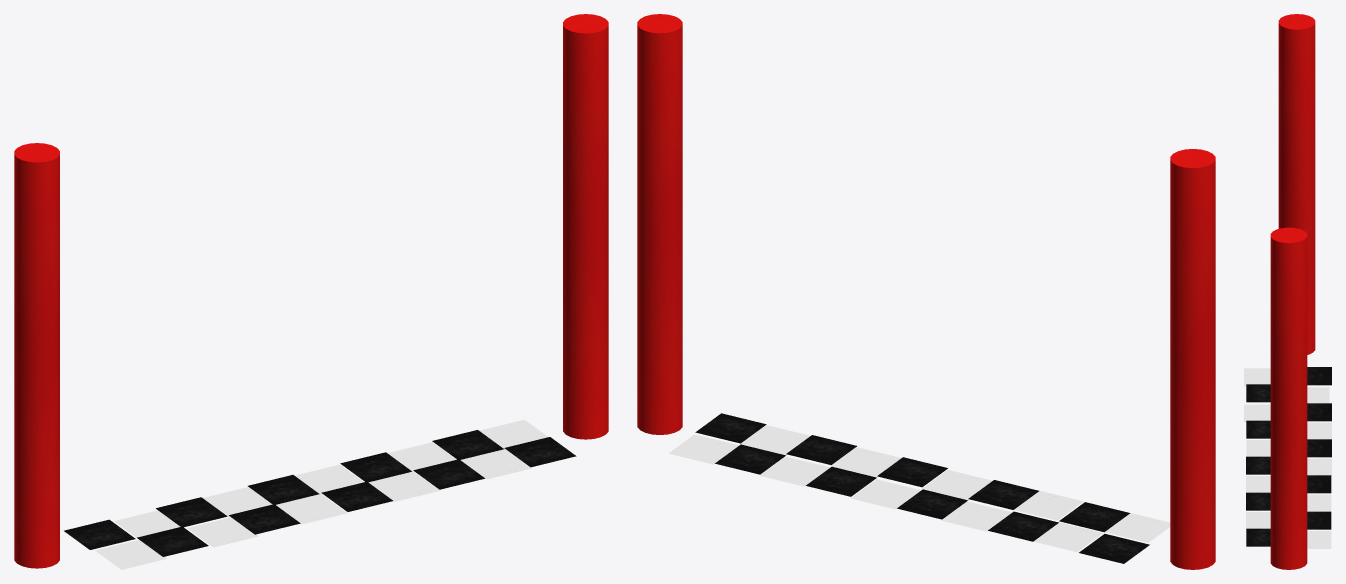
The model's file is baseL.obj.
3 views of the same model, side by side, from view 1: azimuth 30°, elevation 25°; view 2: azimuth 150°, elevation 25°; view 3: azimuth 270°, elevation 25° (orthographic). The views are drawn at different scales.
Parts seen in each view (by area): view 1: Cylinder001, Cylinder003, Box011, Box003, Box013, Box015, Box019, Box017, Box005, Box010, Box008, Box001 (+10 smaller); view 2: Cylinder001, Cylinder003, Box005, Box003, Box010, Box001, Box008, Box011, Box013, Box015, Box017, Box019 (+10 smaller); view 3: Cylinder001, Cylinder003, Box001, Box003, Box005, Box011, Box013, Box015, Box017, Box019, Box008, Box010 (+10 smaller).
Part boxes in pixels (x1,y1,x2,y2): Cylinder001: (563,14,608,439); Cylinder003: (14,143,59,568); Box011: (504,437,576,467); Box003: (64,519,135,549); Box013: (137,526,208,556); Box015: (229,504,300,534); Box019: (413,459,484,489); Box017: (321,481,392,511); Box005: (248,475,319,504); Box010: (340,452,411,482); Box008: (432,430,503,459); Box001: (156,497,227,527); Cylinder001: (637,14,682,434); Cylinder003: (1170,149,1215,569); Box005: (897,489,967,519); Box003: (1079,534,1149,563); Box010: (806,466,876,496); Box001: (988,511,1058,541); Box008: (715,444,785,474); Box011: (695,413,766,443); Box013: (1059,502,1130,532); Box015: (968,480,1038,509); Box017: (877,457,947,487); Box019: (786,435,856,464); Cylinder001: (1270,227,1307,569); Cylinder003: (1278,14,1315,354); Box001: (1307,403,1331,421); Box003: (1307,367,1331,385); Box005: (1307,439,1331,457); Box011: (1246,528,1270,546); Box013: (1246,384,1270,402); Box015: (1246,420,1270,438); Box017: (1246,456,1270,474); Box019: (1246,492,1270,510); Box008: (1307,511,1331,529); Box010: (1307,475,1331,493).
Bounding box in the file's own units: 75.31 × 50.15 × 12.22.
